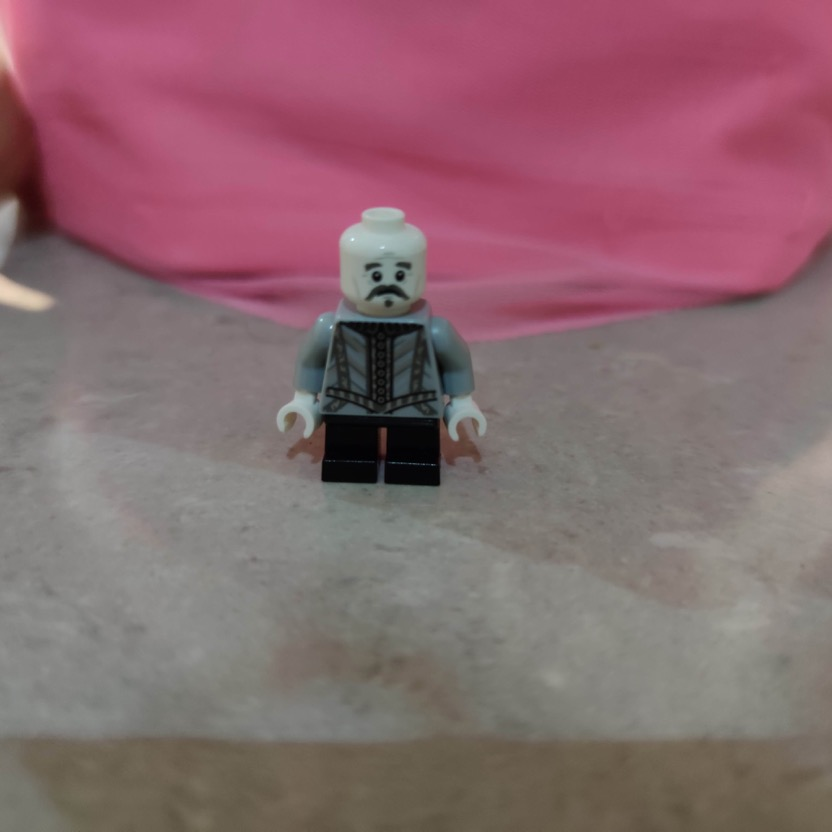lego: (277, 205, 487, 491)
